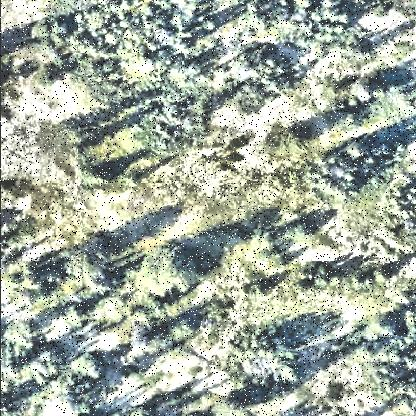tree-top: (238, 329, 302, 391), (151, 248, 204, 299), (70, 237, 116, 291), (321, 164, 365, 212), (372, 79, 416, 124), (2, 319, 42, 365), (44, 119, 86, 161), (130, 322, 166, 364), (69, 350, 107, 388), (153, 115, 189, 155), (344, 34, 378, 70), (257, 57, 291, 93), (149, 28, 186, 60), (279, 124, 313, 158), (84, 160, 118, 191), (349, 78, 379, 109), (243, 4, 272, 34), (241, 83, 268, 115), (371, 314, 400, 342), (218, 394, 254, 416), (48, 18, 74, 43), (190, 97, 215, 123), (291, 220, 317, 244), (248, 279, 274, 303), (30, 20, 54, 46), (312, 269, 336, 294), (345, 138, 371, 161), (370, 263, 394, 287), (24, 272, 48, 296), (174, 317, 199, 339), (403, 133, 416, 175), (64, 302, 86, 326), (39, 67, 59, 91), (138, 55, 157, 77), (204, 17, 221, 35), (390, 351, 405, 367)
